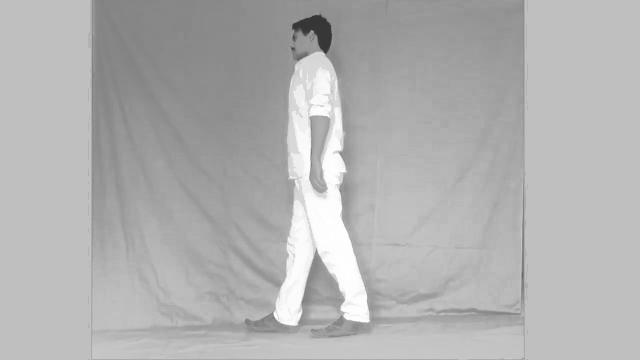berjalan: (254, 10, 376, 344)
